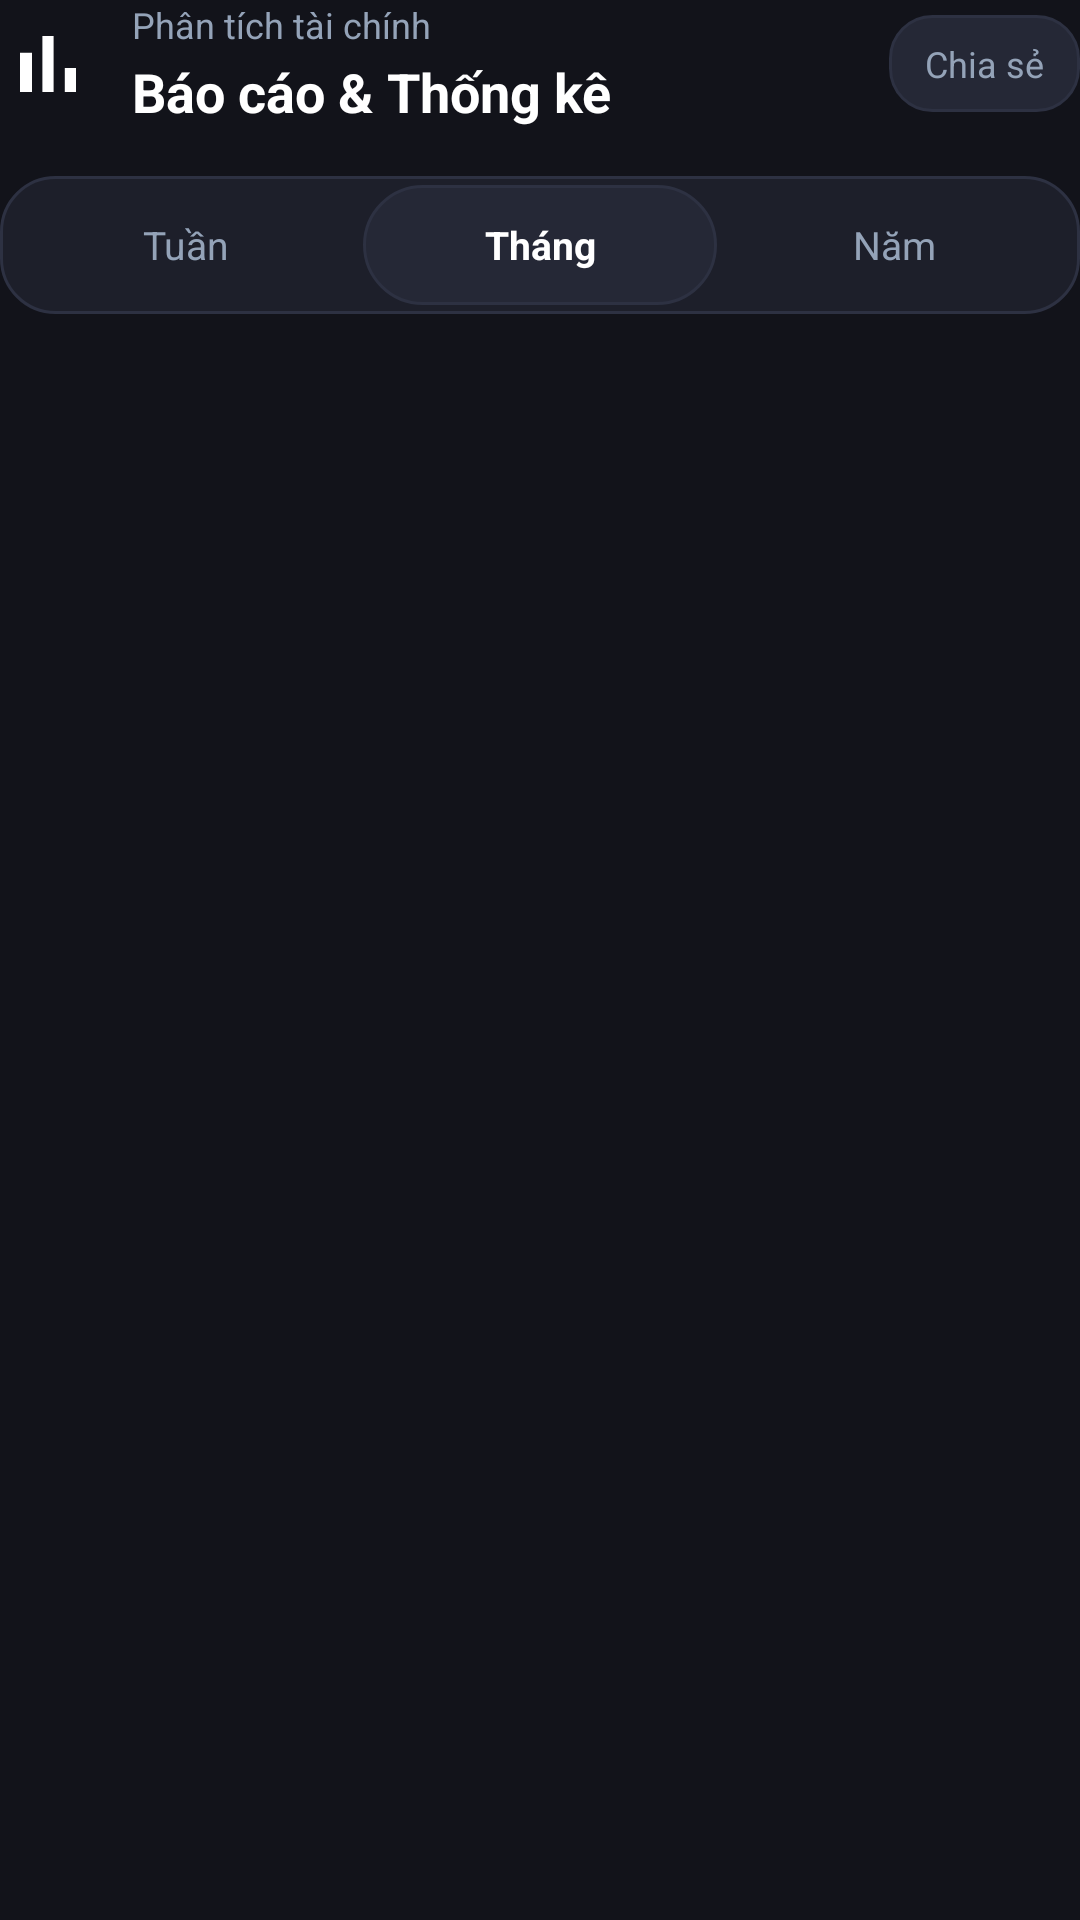

Screen size 1080 x 1920. Icon name, then its center in pixels as point (x, y):
Report Icon: point (48, 64)
